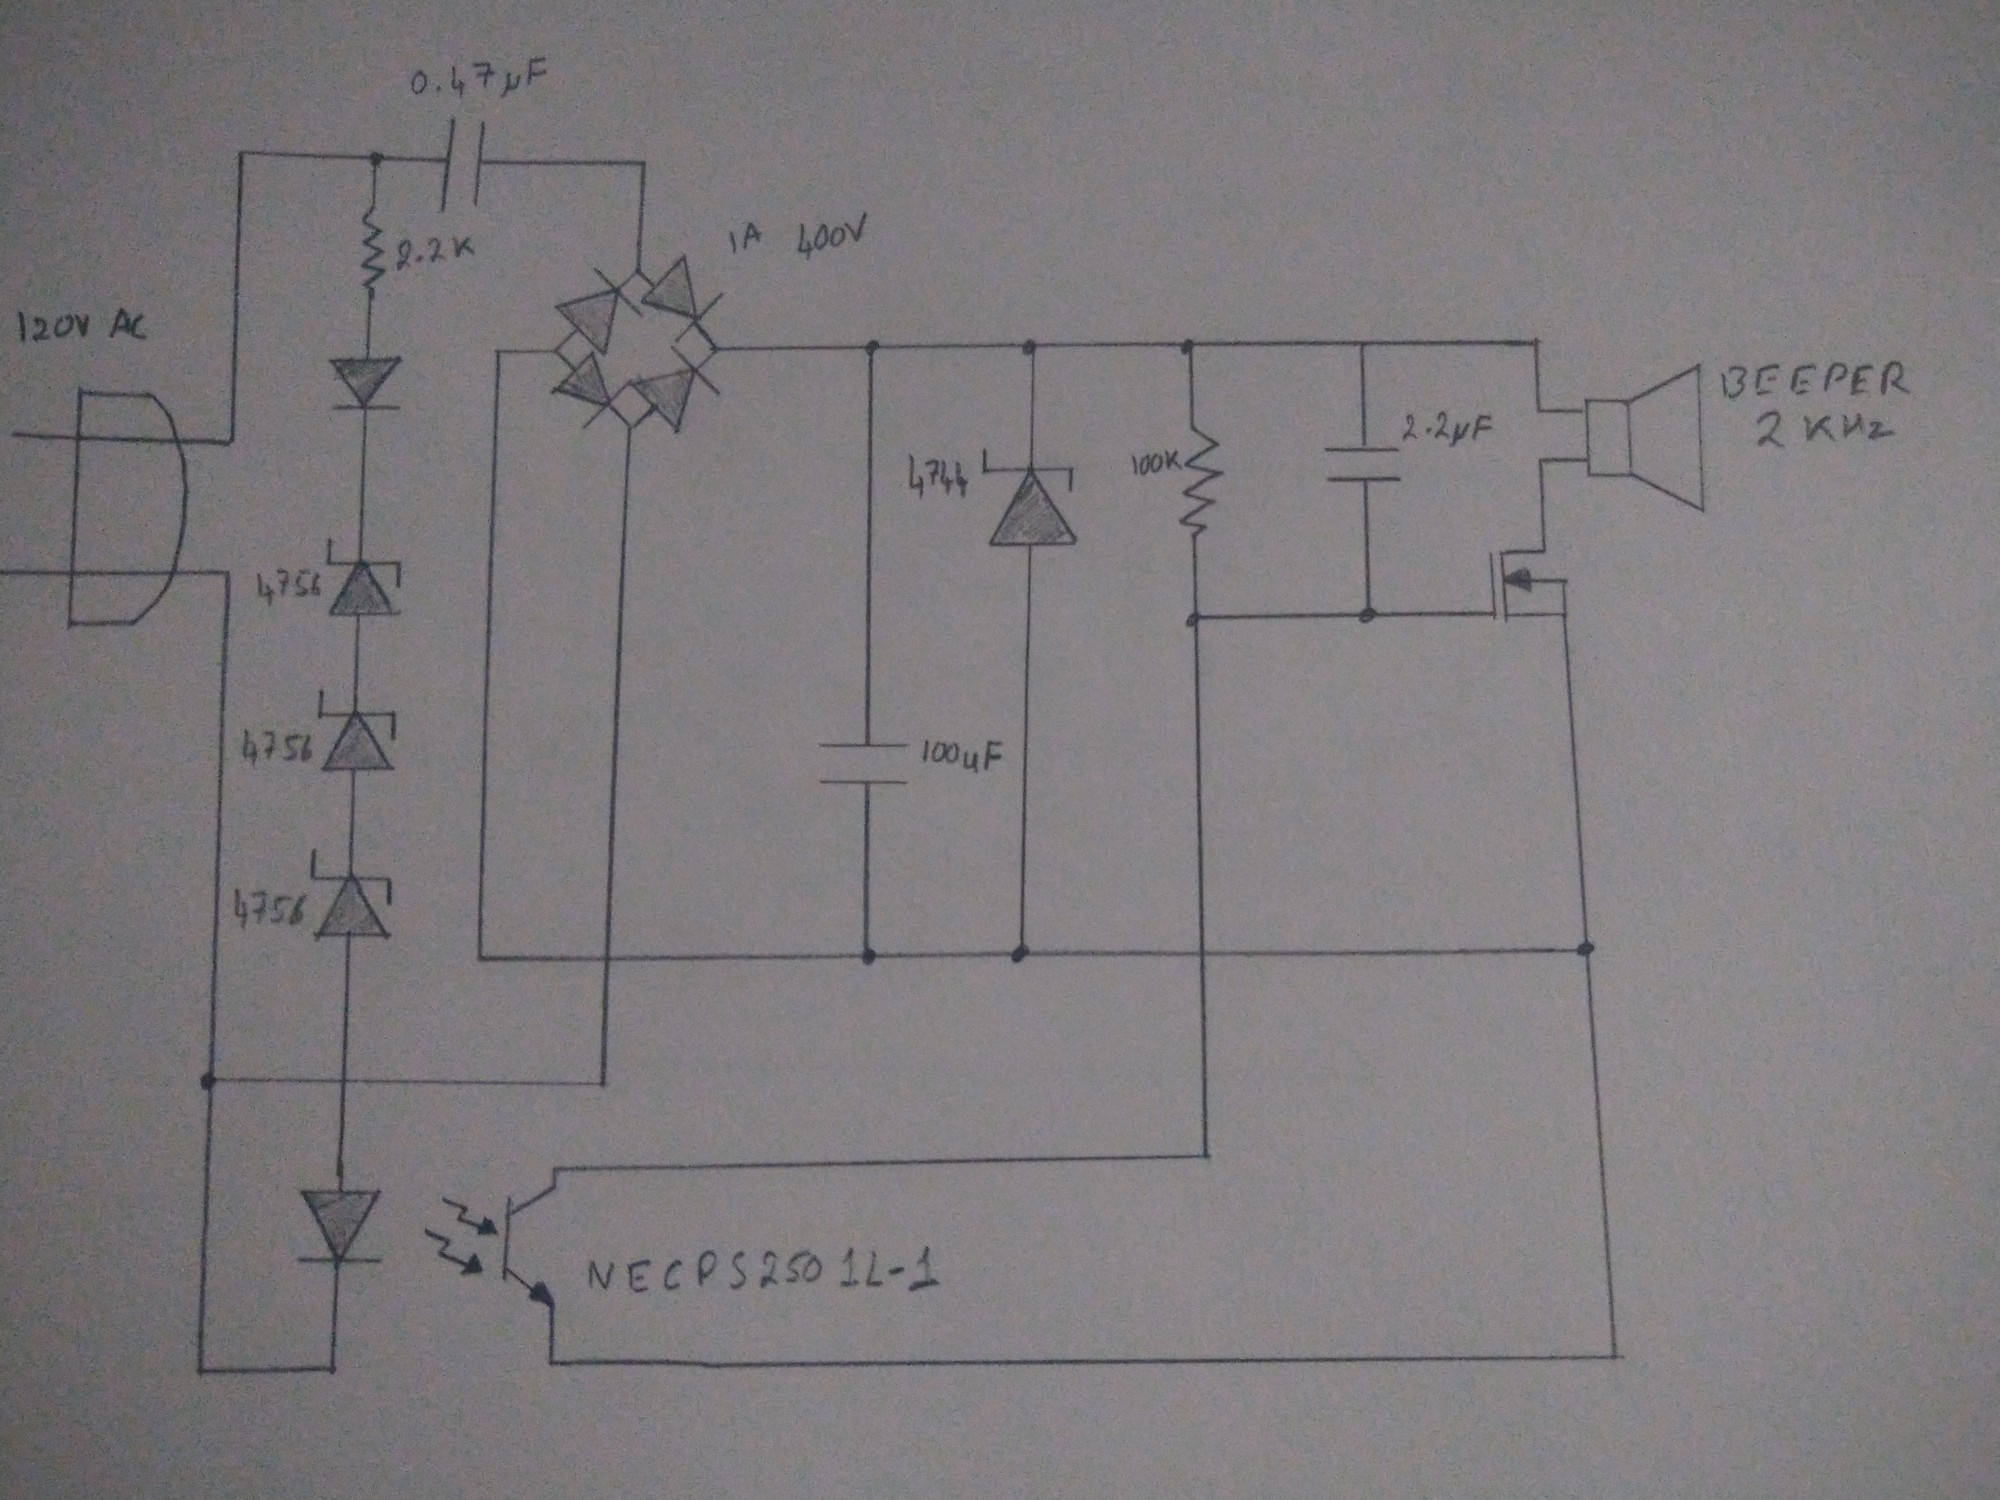capacitor.unpolarized: (813, 730, 913, 800), (430, 113, 501, 213), (1320, 436, 1406, 495)
crossover: (1187, 941, 1224, 964), (331, 1068, 361, 1093), (595, 949, 617, 967)
diode: (980, 447, 1085, 550), (306, 845, 398, 942), (554, 266, 643, 355), (633, 347, 721, 435), (317, 687, 400, 775), (643, 255, 720, 340), (324, 539, 403, 621), (551, 353, 628, 429), (328, 355, 405, 411)
junction: (1014, 332, 1047, 362), (1351, 600, 1384, 630), (1570, 934, 1602, 961), (857, 332, 887, 359), (1006, 937, 1031, 967), (1173, 334, 1202, 359), (1183, 607, 1208, 633), (855, 944, 880, 969), (197, 1068, 220, 1093), (364, 148, 387, 172), (1605, 1346, 1630, 1368), (1194, 1145, 1220, 1164), (633, 153, 654, 173), (1526, 332, 1546, 351), (323, 1360, 343, 1379), (543, 1352, 562, 1372), (191, 1361, 209, 1380), (702, 340, 724, 356), (230, 145, 252, 161), (1354, 332, 1372, 351), (219, 562, 236, 581), (491, 343, 509, 361), (471, 950, 490, 966), (622, 419, 643, 433), (1531, 400, 1546, 418), (1534, 452, 1550, 470), (594, 1075, 611, 1090), (224, 432, 238, 449), (550, 343, 565, 358), (628, 263, 644, 277), (548, 1163, 562, 1177)
optocoupler: (294, 1183, 578, 1311)
resistor: (1181, 422, 1225, 539), (356, 203, 389, 296)
socket: (63, 383, 194, 635)
speaker: (1580, 359, 1713, 518)
terminal: (2, 564, 24, 585), (5, 427, 27, 446)
text: (580, 1243, 953, 1297), (1718, 358, 1913, 407), (1748, 407, 1899, 455), (405, 57, 553, 101), (14, 303, 153, 348), (1400, 407, 1498, 454), (789, 210, 874, 263), (917, 734, 1006, 782), (230, 884, 310, 936), (391, 230, 480, 273), (902, 449, 972, 501), (238, 723, 317, 767), (250, 564, 324, 607), (1128, 446, 1183, 481), (721, 217, 769, 255)
transistor: (1483, 544, 1580, 624)
